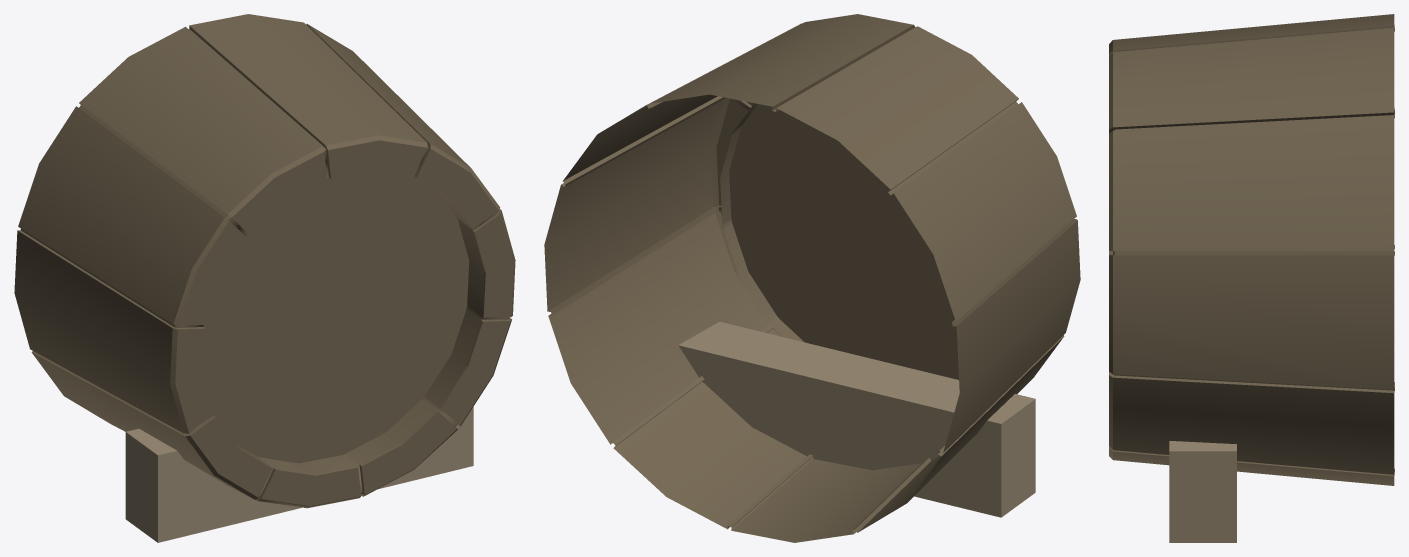
The model's file is SM_Barrel03.fbx.
3 renders of one model, left to right at view 1: azimuth 30°, elevation 25°; view 2: azimuth 150°, elevation 25°; view 3: azimuth 270°, elevation 25°, orthographic. The views are drawn at different scales.
Parts seen in each view (by area): view 1: pCylinder5; view 2: pCylinder5; view 3: pCylinder5.
Boxes of the visible parts, x1,y1,x2,y2 form: pCylinder5: (14,14,515,542); pCylinder5: (544,14,1080,542); pCylinder5: (1109,14,1394,542).
Size of the model in its own units: 153 by 152 by 92.86.
